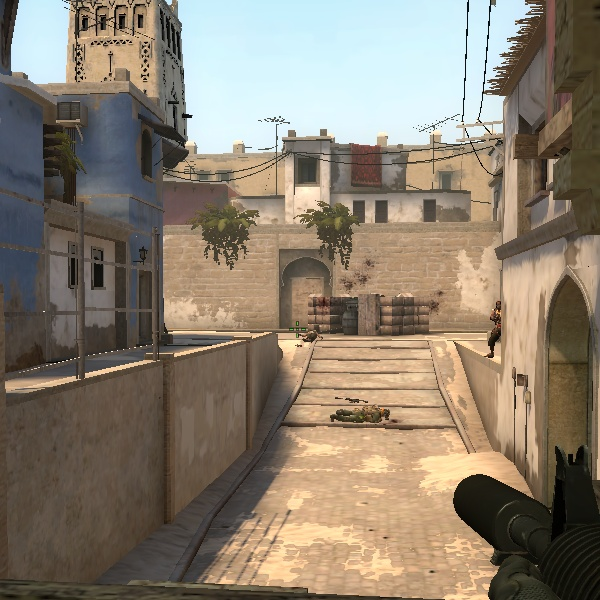t_body: (481, 298, 509, 357)
